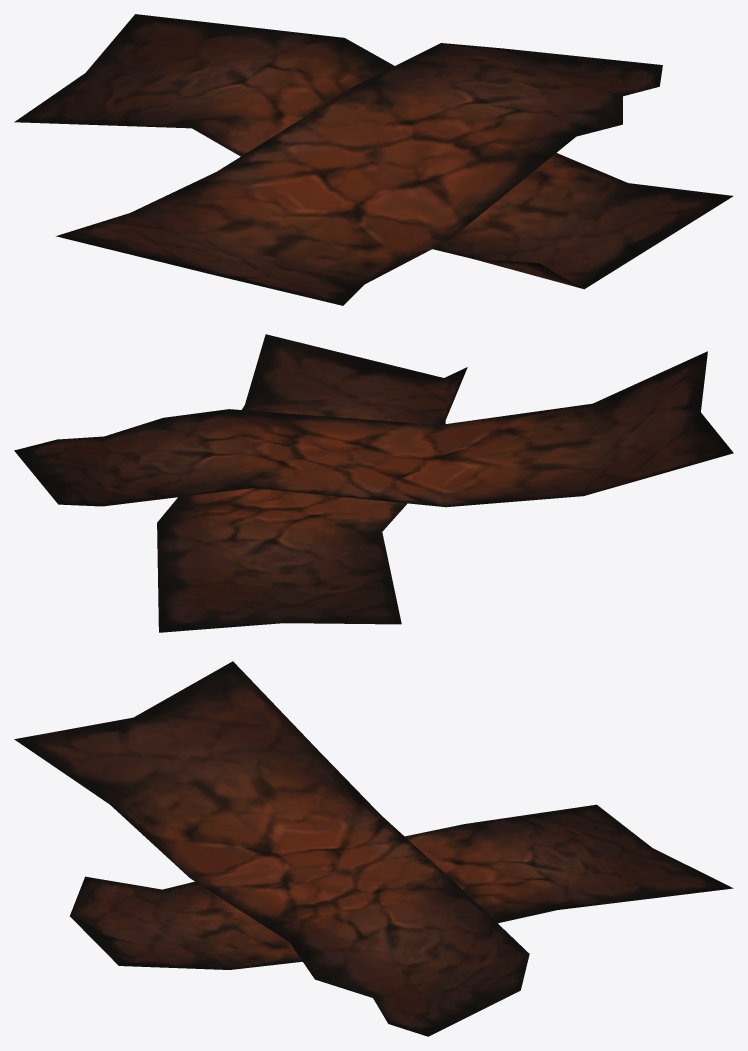
The model's file is GAM_LootLeather.FBX.
3 views of the same model, one above another, from view 1: azimuth 30°, elevation 25°; view 2: azimuth 150°, elevation 25°; view 3: azimuth 270°, elevation 25° (orthographic). The views are drawn at different scales.
Parts seen in each view (by area): view 1: GAM_LootLeather; view 2: GAM_LootLeather; view 3: GAM_LootLeather.
Boxes of the visible parts, x1=… form: GAM_LootLeather: x1=14, y1=14, x2=733, y2=305; GAM_LootLeather: x1=14, y1=334, x2=733, y2=632; GAM_LootLeather: x1=14, y1=661, x2=733, y2=1036.
Size of the model in its own units: 36.29 by 4.28 by 36.82.
